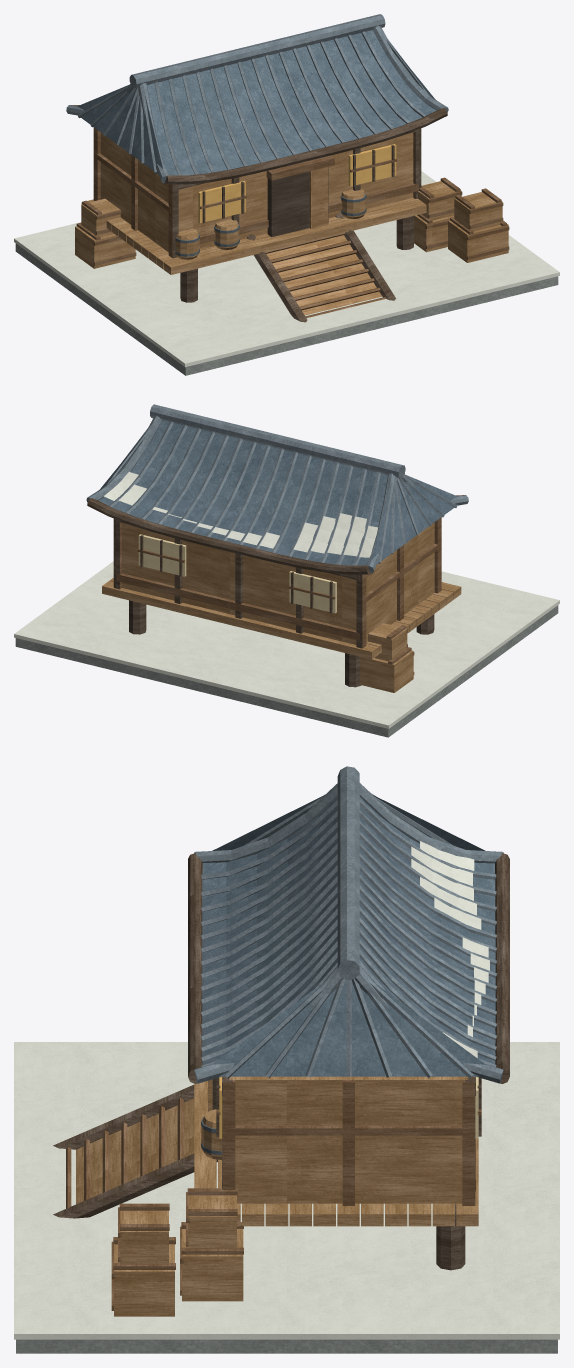
Rendered from BLD_WAREHOUSE.glb.
3 views of the same model, one above another, from view 1: azimuth 30°, elevation 25°; view 2: azimuth 150°, elevation 25°; view 3: azimuth 270°, elevation 25° (orthographic). The views are drawn at different scales.
Visible parts, largest first — view 1: BLD_WAREHOUSE; view 2: BLD_WAREHOUSE; view 3: BLD_WAREHOUSE.
Boxes of the visible parts, x1,y1,x2,y2 form: BLD_WAREHOUSE: (14, 14, 559, 375); BLD_WAREHOUSE: (14, 404, 559, 737); BLD_WAREHOUSE: (14, 766, 559, 1353).
Size of the model in its own units: 6.69 by 3.62 by 5.29.
Materials: 11 (11 with a texture image).
